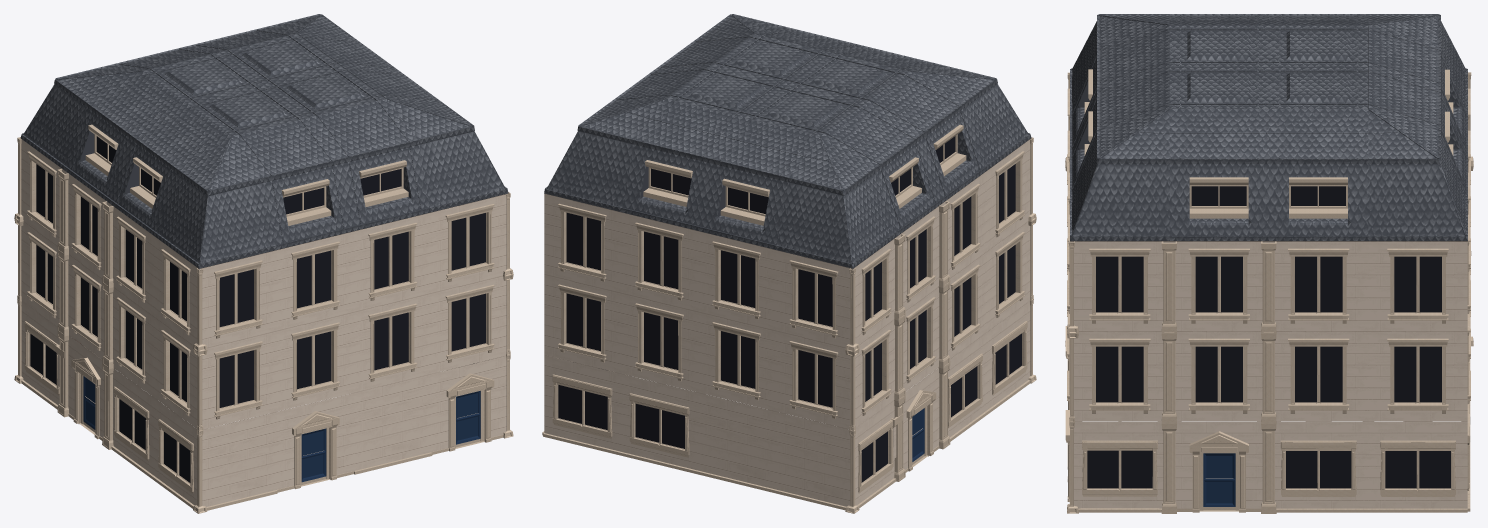
The model's file is Hausmann.fbx.
3 renders of one model, left to right at view 1: azimuth 30°, elevation 25°; view 2: azimuth 150°, elevation 25°; view 3: azimuth 270°, elevation 25°, orthographic. The views are drawn at different scales.
Visible parts, largest first — view 1: HausmannMerged.004; view 2: HausmannMerged.004; view 3: HausmannMerged.004.
Boxes of the visible parts, x1=… form: HausmannMerged.004: x1=14, y1=14, x2=513, y2=513; HausmannMerged.004: x1=542, y1=14, x2=1036, y2=513; HausmannMerged.004: x1=1065, y1=14, x2=1473, y2=513.
Bounding box in the file's own units: 1235 × 1214 × 1232.
